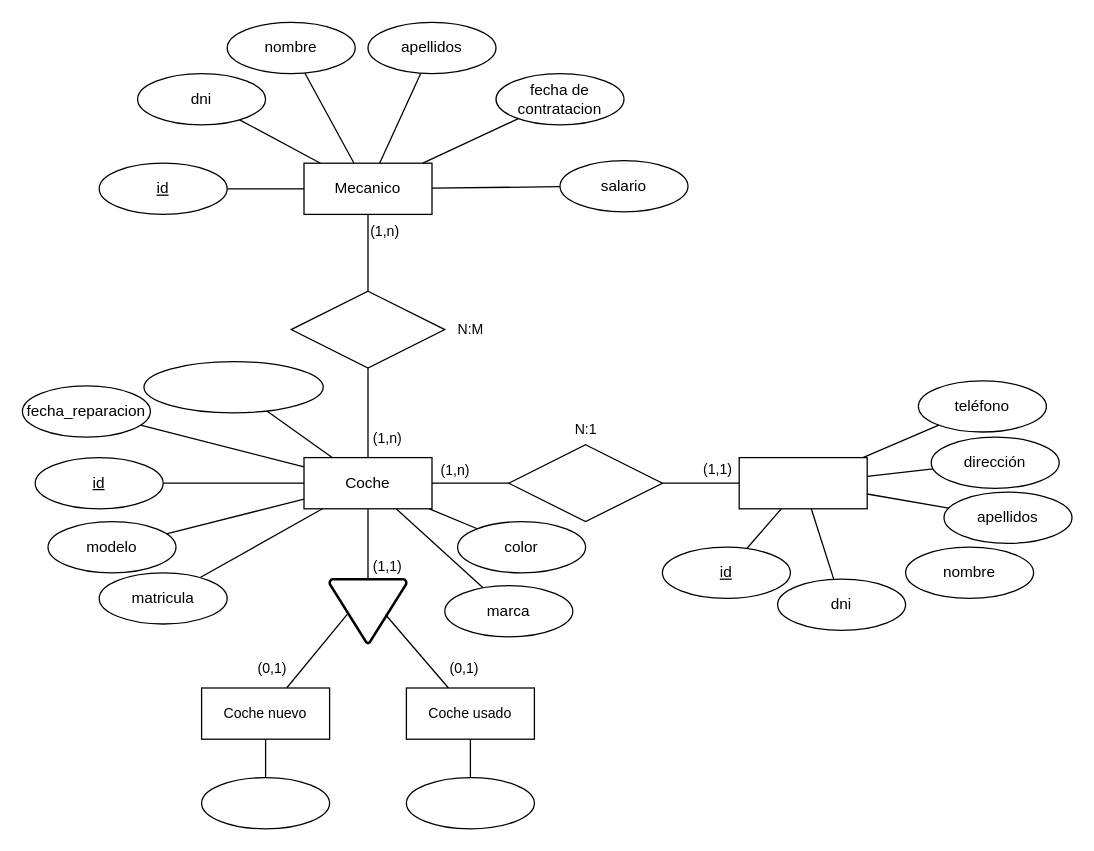
This 1094x851 diagram has some shape labels left out. Each missing label, with the box of its shape:
Cliente: (738, 456, 867, 509)
Numero de kilometros hechos: (405, 776, 534, 829)
Numero de unidades: (200, 776, 330, 829)
numeroHorasUtilizadas: (143, 360, 323, 413)
reparan: (290, 290, 445, 368)
son comprados por: (508, 444, 662, 522)
